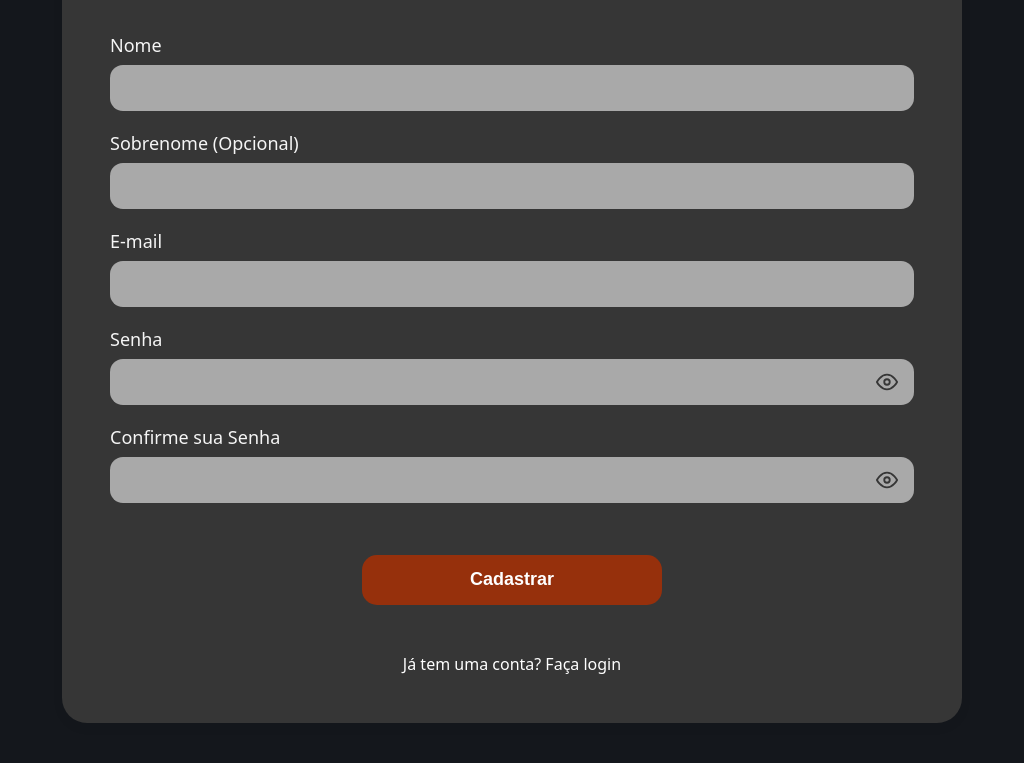
Test: RegisterPage › deve validar que senhas coincidem
(page scrolled)
Type "12345678" into the password field labelled "Senha".
click(512, 382); type("12345678")  # box [110, 359, 914, 405]
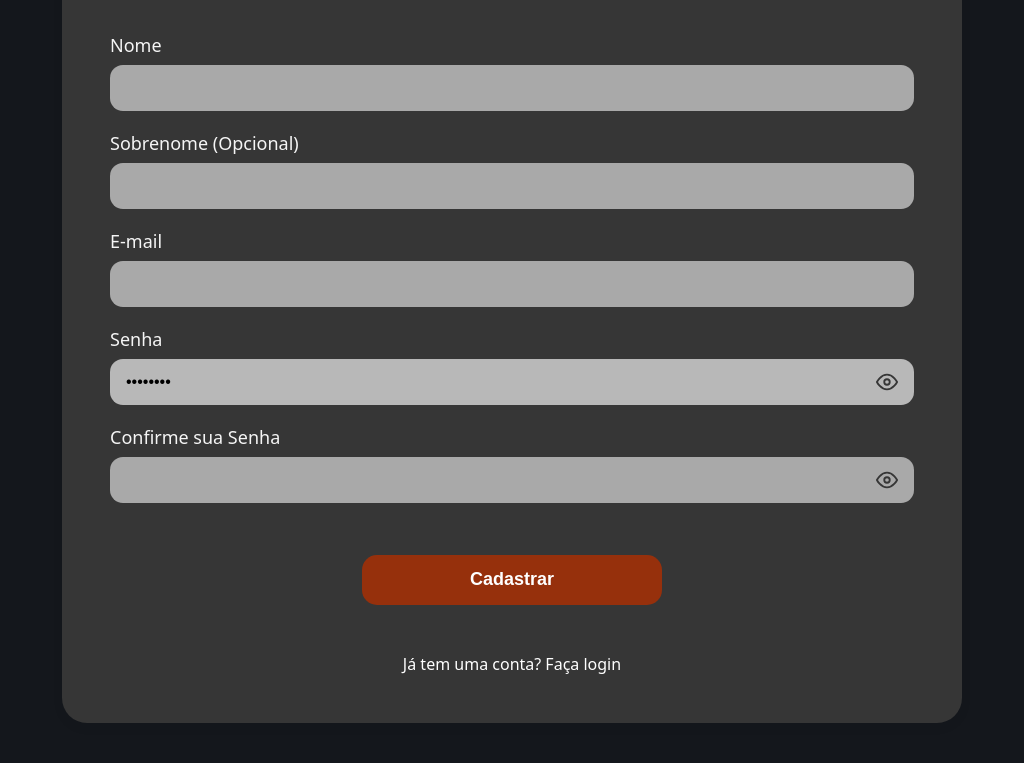
Type "87654321" into the password field labelled "Confirme sua Senha".
click(512, 480); type("87654321")  # box [110, 457, 914, 503]
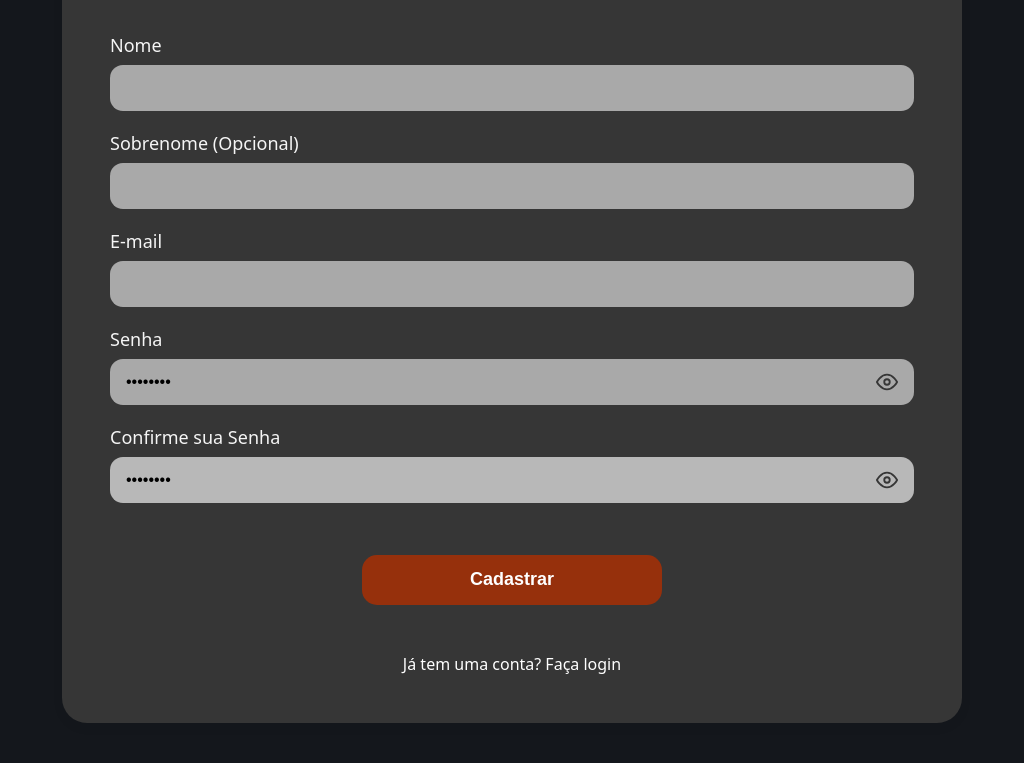
Click the button "Cadastrar".
click(512, 580)  # box [362, 555, 662, 605]
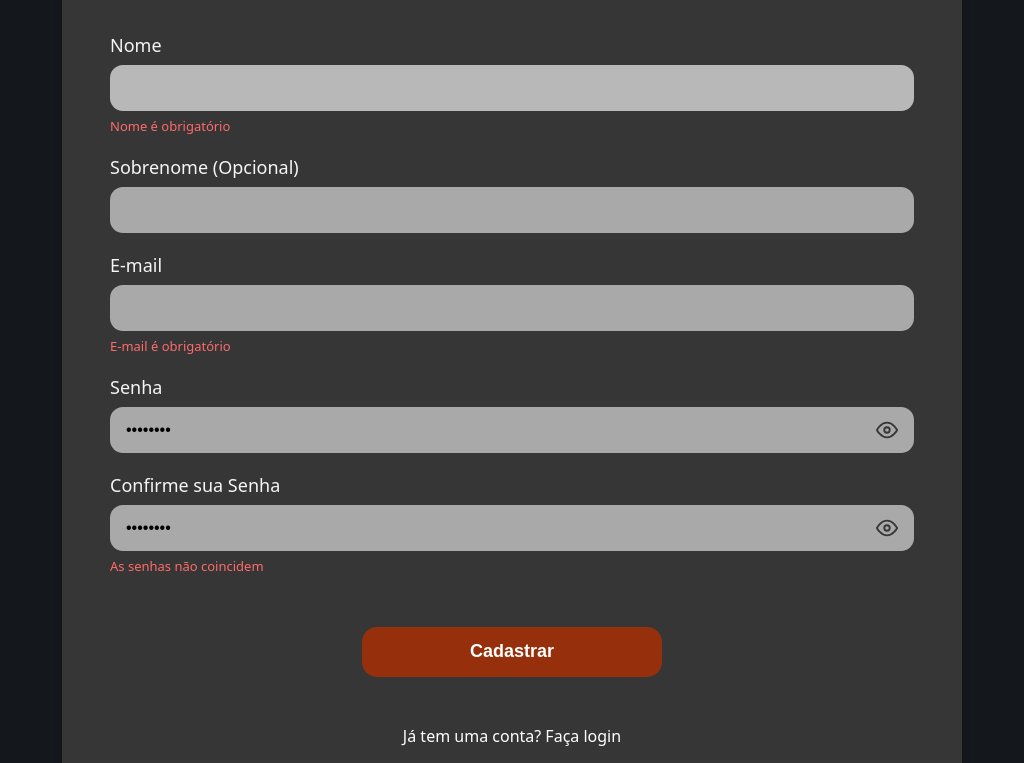
Expected: the text "As senhas não coincidem" is shown, [110, 557, 264, 575]
